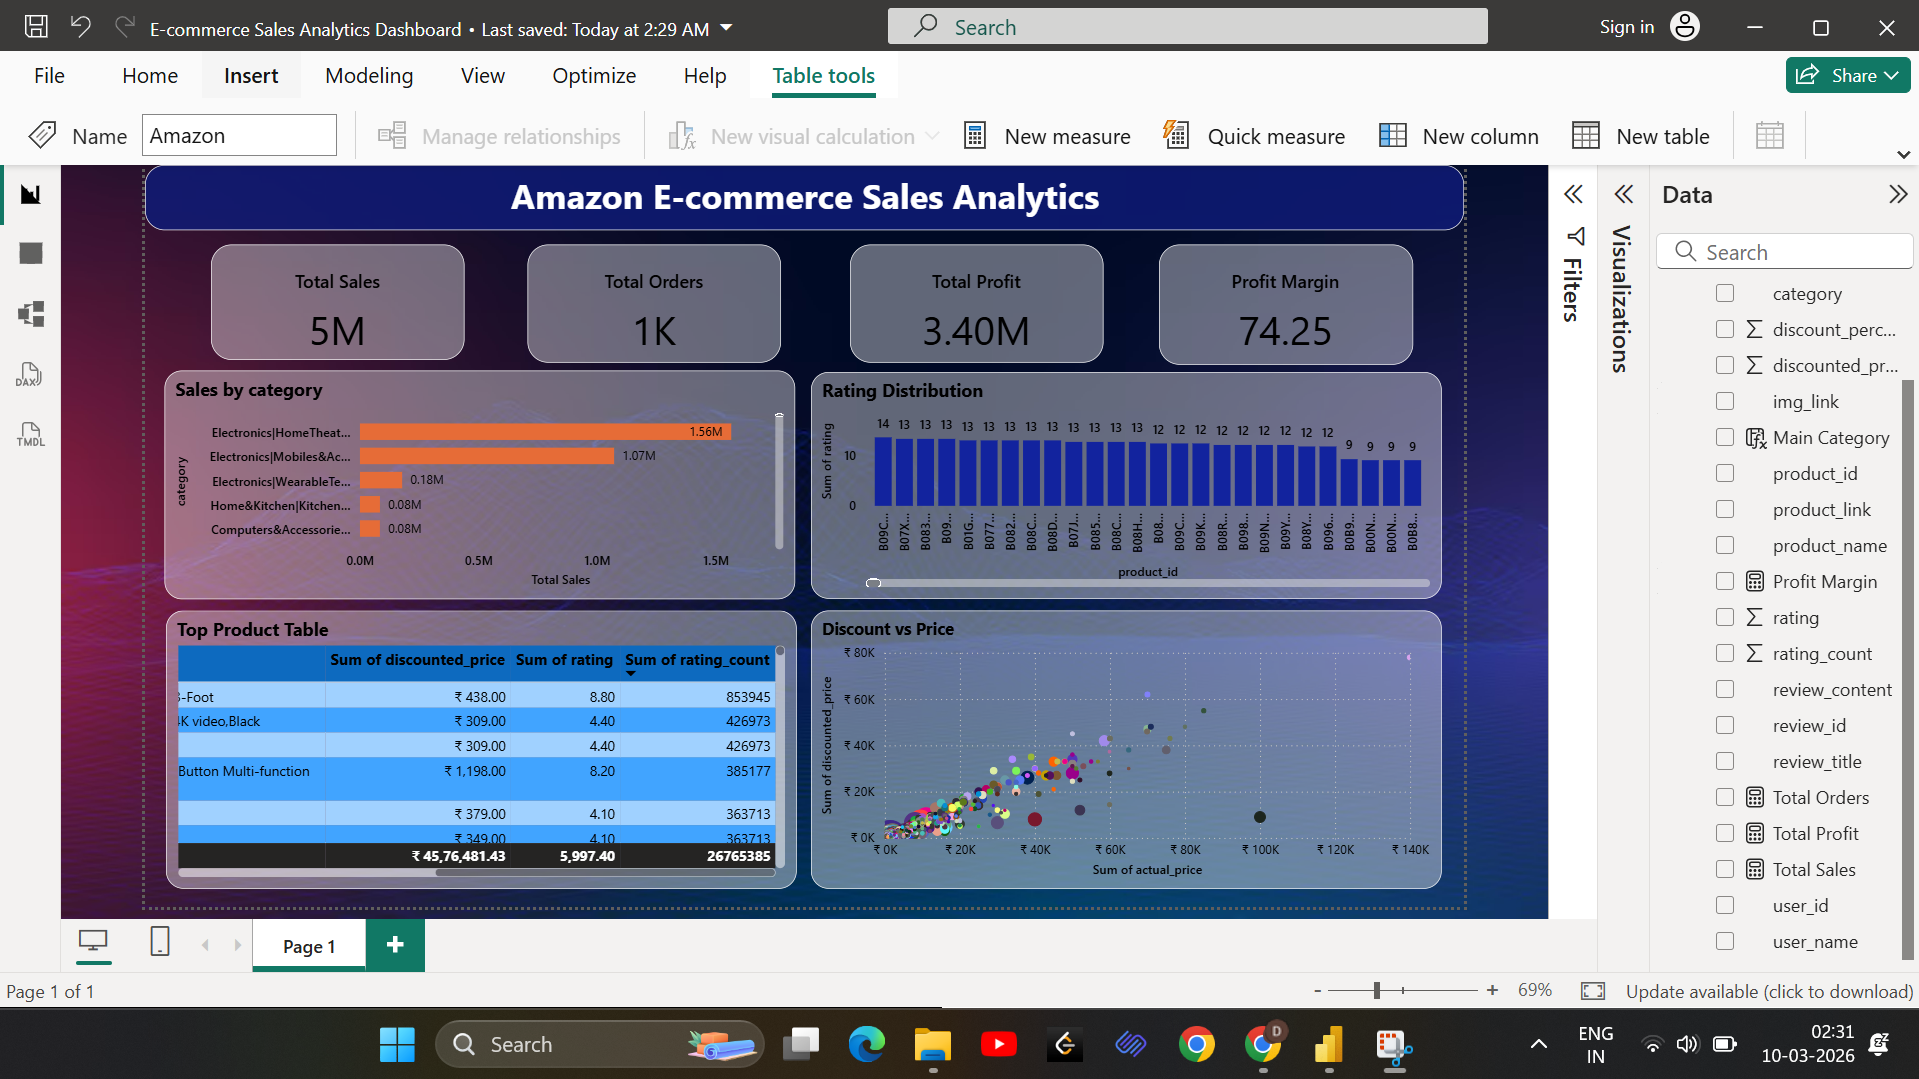

What the dashboard file says about the page in this screenshot:
{"tool":"powerbi","page":{"name":"Page 1","canvas":[1280,720],"ordinal":0},"visuals":[{"type":"textbox","title":"Amazon E-commerce Sales Analytics","box":[0,0,1280,63.3],"z":0},{"type":"cardVisual","fields":{"Data":["Amazon.Total Profit"]},"box":[683.8,77.3,246.1,115],"z":1000},{"type":"clusteredBarChart","title":"Sales by category","fields":{"Category":["Amazon.category"],"Y":["Amazon.Total Sales"]},"box":[19.4,199.2,612.1,221.8],"z":2000},{"type":"clusteredColumnChart","title":"Rating Distribution","fields":{"Y":["Sum(Amazon.rating)"],"Category":["Amazon.product_id"]},"box":[646.1,200.8,612.1,220.2],"z":3000},{"type":"tableEx","title":"Top Product Table","fields":{"Values":["Amazon.product_name","Sum(Amazon.discounted_price)","Sum(Amazon.rating)","Sum(Amazon.rating_count)"]},"box":[20,431.7,611.7,270],"z":4000},{"type":"scatterChart","title":"Discount vs Price","fields":{"X":["Sum(Amazon.actual_price)"],"Y":["Sum(Amazon.discounted_price)"],"Size":["Sum(Amazon.rating_count)"],"Category":["Amazon.product_name"]},"box":[646.7,431.7,611.7,270],"z":5000},{"type":"cardVisual","fields":{"Data":["Amazon.Profit Margin"]},"box":[983.3,76.7,246.7,116.7],"z":7000},{"type":"cardVisual","fields":{"Data":["Amazon.Total Orders"]},"box":[371.3,77.3,246.1,115],"z":8000},{"type":"cardVisual","fields":{"Data":["Amazon.Total Sales"]},"box":[63.6,77.3,246.1,111.7],"z":9000}]}

Visuals, with their boxes on the page's 1280x720 design canvas (x1, y1, x2, y2). These are canvas units, not pixel positions in the 1919x1079 screenshot, which may show the page scaled, cropped or inside an application window:
"Amazon E-commerce Sales Analytics" textbox: 0 0 1280 63
cardVisual - Amazon.Total Profit: 684 77 930 192
"Sales by category" clusteredBarChart: 19 199 632 421
"Rating Distribution" clusteredColumnChart: 646 201 1258 421
"Top Product Table" tableEx: 20 432 632 702
"Discount vs Price" scatterChart: 647 432 1258 702
cardVisual - Amazon.Profit Margin: 983 77 1230 193
cardVisual - Amazon.Total Orders: 371 77 617 192
cardVisual - Amazon.Total Sales: 64 77 310 189
